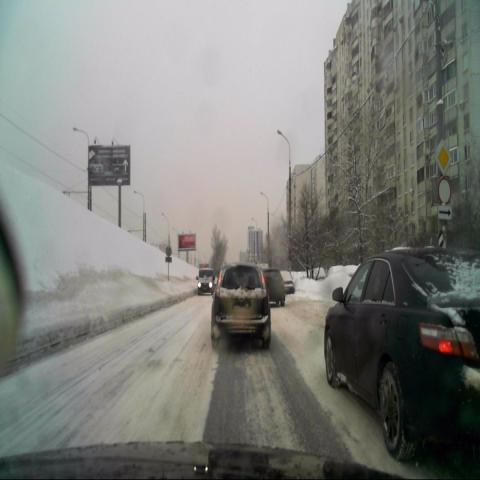3_2: (438, 175, 452, 204)
8_3_1: (438, 204, 453, 221)
